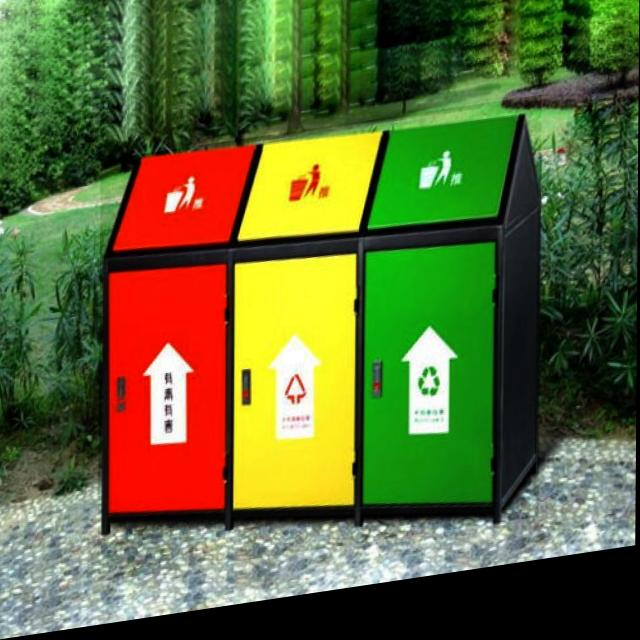garbage_bin: (99, 112, 542, 585)
